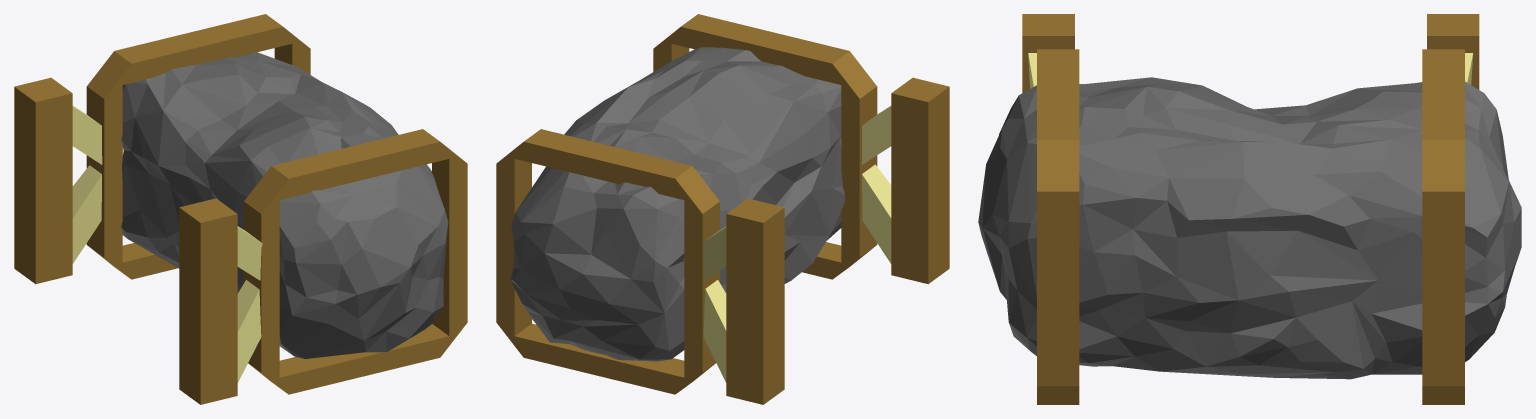
Rendered from bumper_rock.fbx.
3 views of the same model, side by side, from view 1: azimuth 30°, elevation 25°; view 2: azimuth 150°, elevation 25°; view 3: azimuth 270°, elevation 25° (orthographic). The views are drawn at different scales.
Parts seen in each view (by area): view 1: bumper_rock; view 2: bumper_rock; view 3: bumper_rock.
Boxes of the visible parts, box(x1,y1,x2,y2) form: bumper_rock: box(14, 14, 467, 404); bumper_rock: box(496, 14, 949, 404); bumper_rock: box(978, 14, 1521, 404).
Size of the model in its own units: 164 by 122 by 225.
